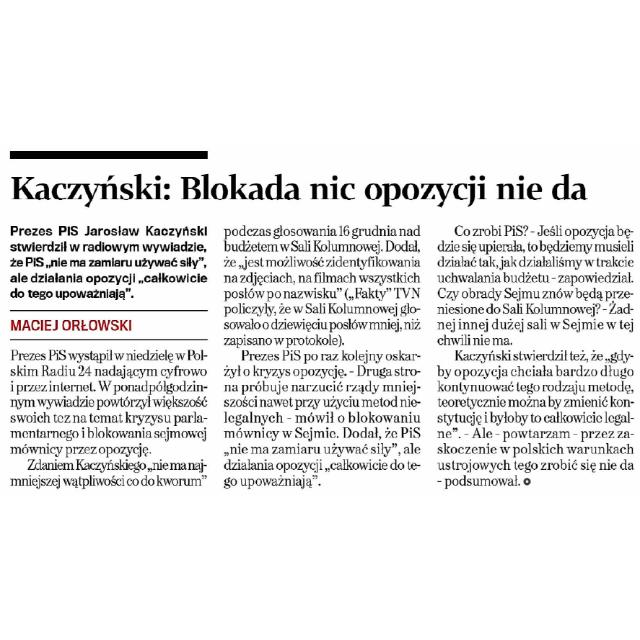author: (7, 314, 143, 336)
body: (221, 220, 427, 490), (432, 221, 638, 489), (5, 345, 212, 491)
lead: (5, 220, 215, 302)
title: (6, 169, 598, 211)
